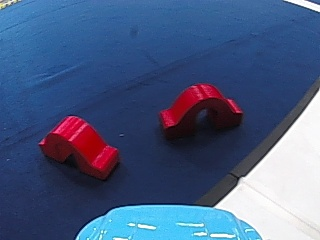bridge: (36, 112, 125, 184), (154, 80, 245, 137)
